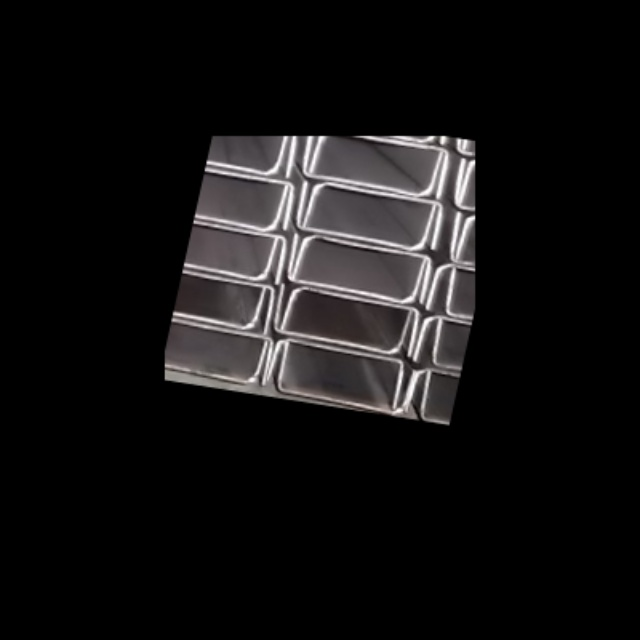Shveller: (266, 339, 406, 407), (276, 344, 416, 412), (271, 285, 412, 351), (281, 288, 420, 354), (296, 183, 433, 248), (293, 236, 432, 300), (287, 236, 425, 299), (304, 184, 443, 246), (311, 136, 449, 197), (301, 136, 442, 193), (165, 320, 274, 384), (172, 273, 276, 334), (165, 319, 267, 381), (183, 223, 287, 283), (195, 171, 295, 227), (184, 221, 277, 278), (195, 172, 286, 228), (173, 270, 265, 325), (206, 136, 298, 176), (403, 369, 460, 422), (207, 136, 288, 172)
